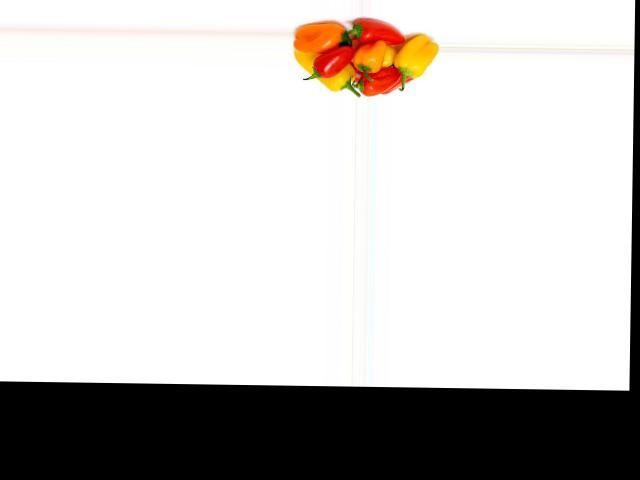bell_pepper: (294, 50, 355, 95)
